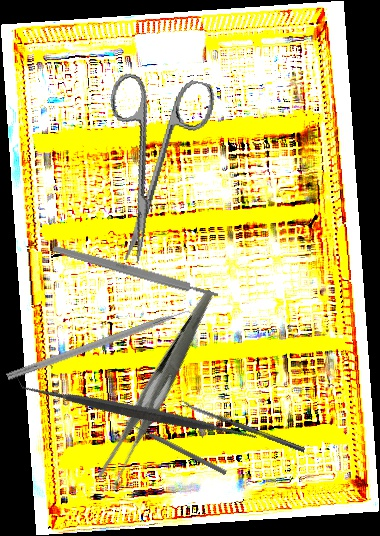Chopper: (6, 303, 204, 391)
Dressing Forceps: (56, 288, 264, 490)
Iris Scissors: (78, 64, 218, 272)
Pusher: (124, 418, 228, 477)
Scalpel Handle: (51, 243, 220, 301)
Spatula Surgical: (15, 288, 263, 536)
Surgical Spoon: (179, 399, 306, 453)
